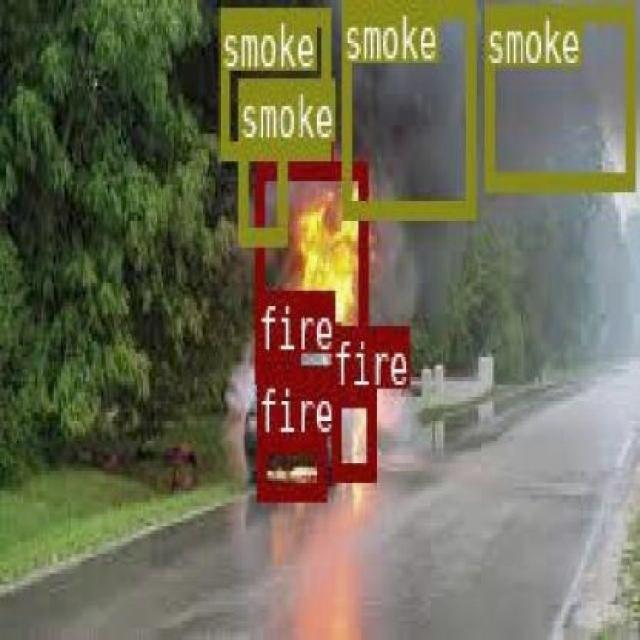fire: (254, 159, 366, 379), (256, 434, 324, 500), (330, 386, 375, 477), (256, 349, 298, 400)
smoke: (339, 0, 472, 215), (483, 3, 632, 186), (220, 5, 328, 154), (237, 141, 286, 242)
